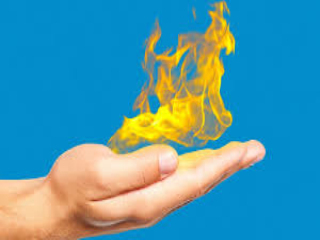fire: (119, 10, 240, 152)
